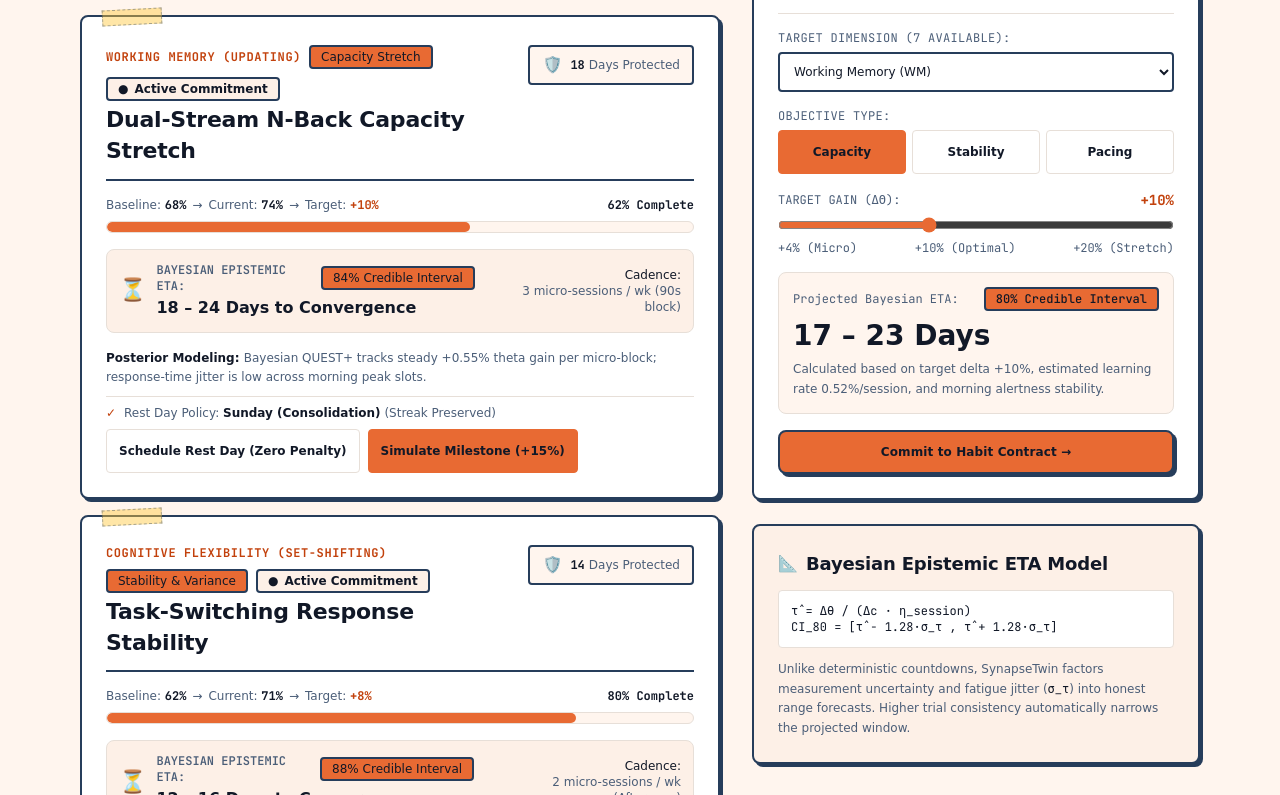
Wave 1 & Wave 2 Pages & Design System Unit Suite › renders Page 11 Goals & Habit Contracts (/goals) with Zero-Guilt Streak Protection, Bayesian ETA simulator, and contract cards
The width and height of the screenshot is (1280, 795).
(page scrolled)
Check: the heading "Dual-Stream N-Back Capacity Stretch" is shown, box x1=106 y1=105 x2=516 y2=167
Step 1. Click the button "Schedule Rest Day (Zero Penalty)" → [233, 451], box x1=106 y1=429 x2=360 y2=473
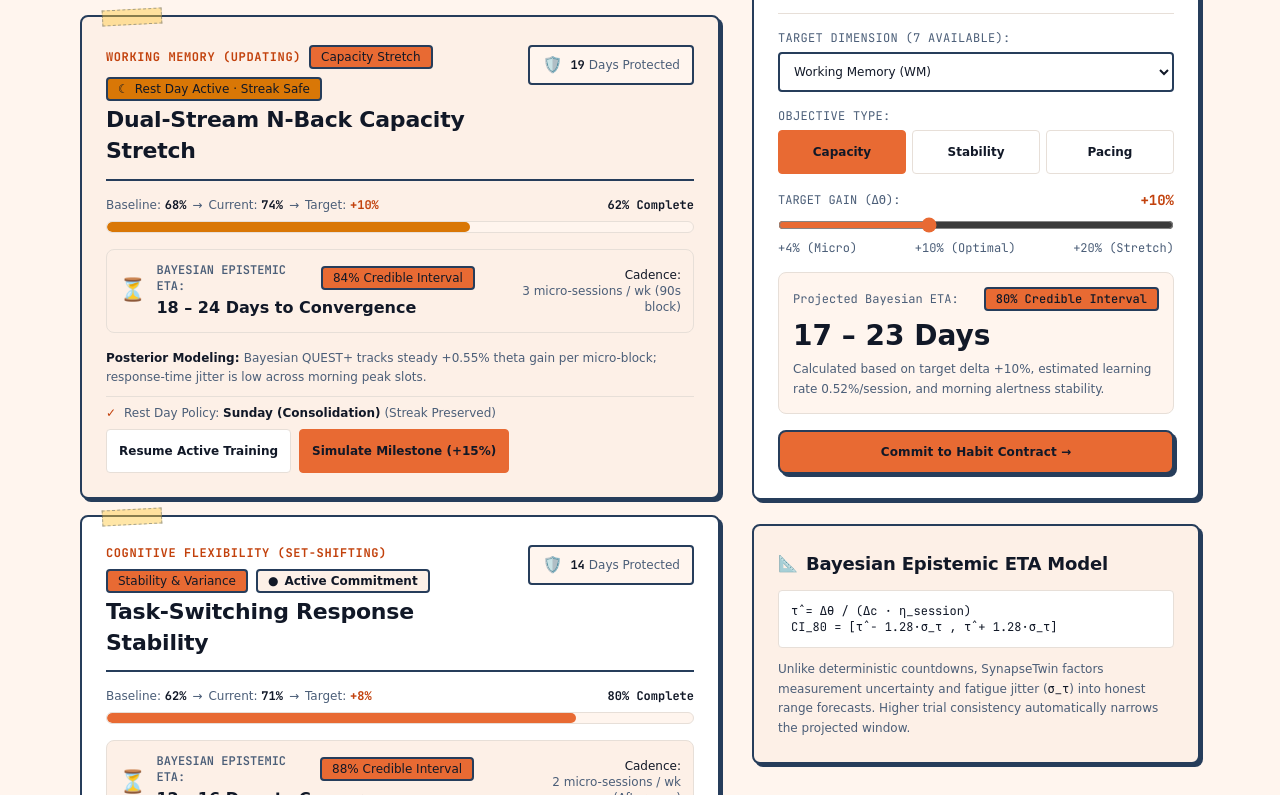
Step 2. Click the button "Simulate Milestone (+15%)" → [404, 451], box x1=299 y1=429 x2=509 y2=473
(page scrolled)
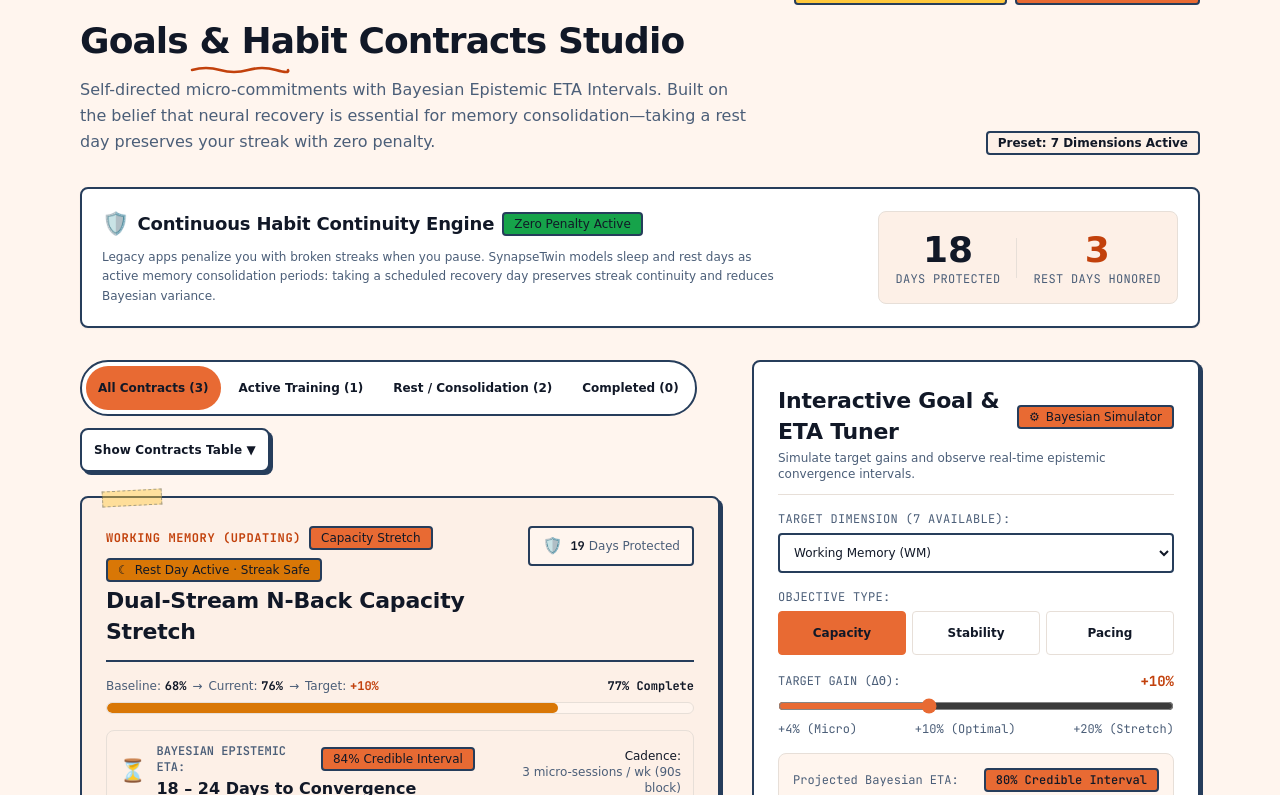
Expand Accessible Contracts Table Region
Step 3. Click the button "Show Contracts Table ▼" → [175, 450], box x1=80 y1=428 x2=270 y2=472
(page scrolled)
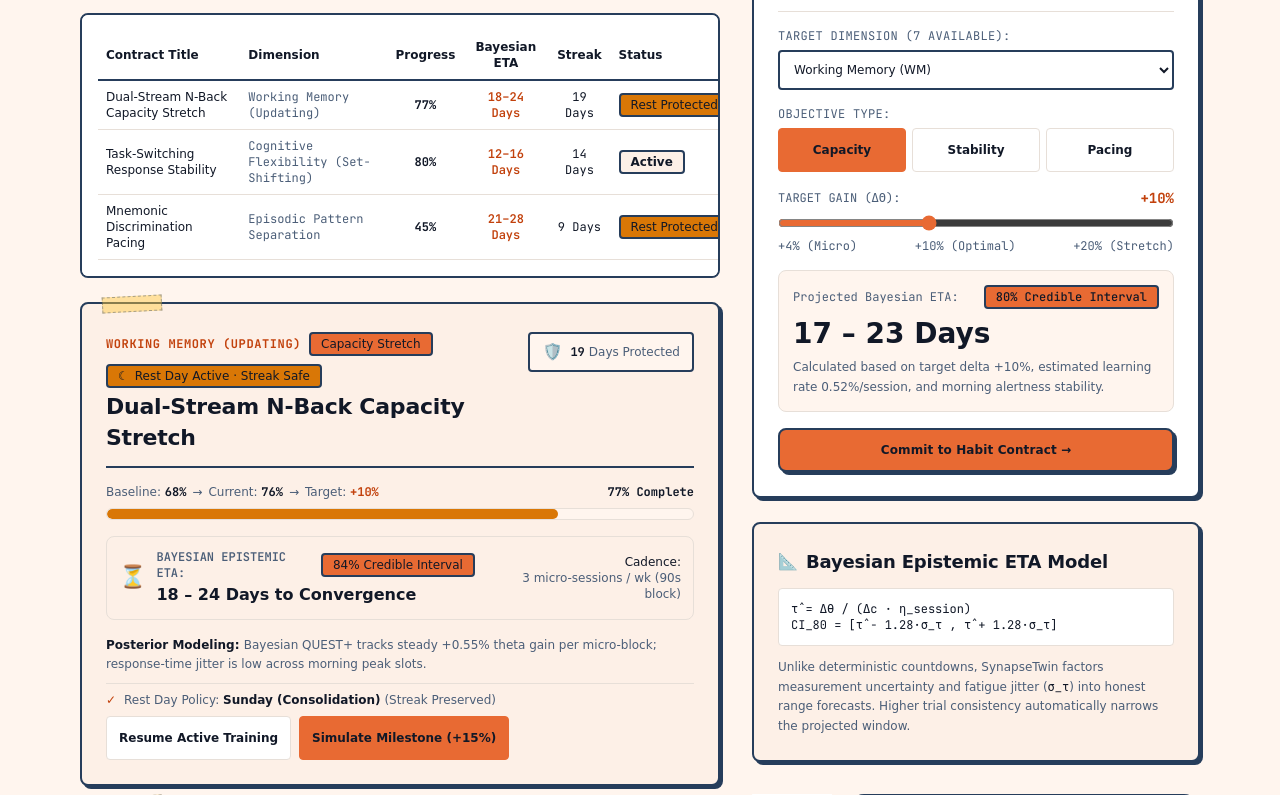
Check: the table named "Habit Contracts and Bayesian ETAs Table" is shown, box x1=98 y1=31 x2=720 y2=260
Test Goal Creator form submit
Step 4. Click the button "Commit to Habit Contract →" → [976, 450], box x1=778 y1=428 x2=1174 y2=472
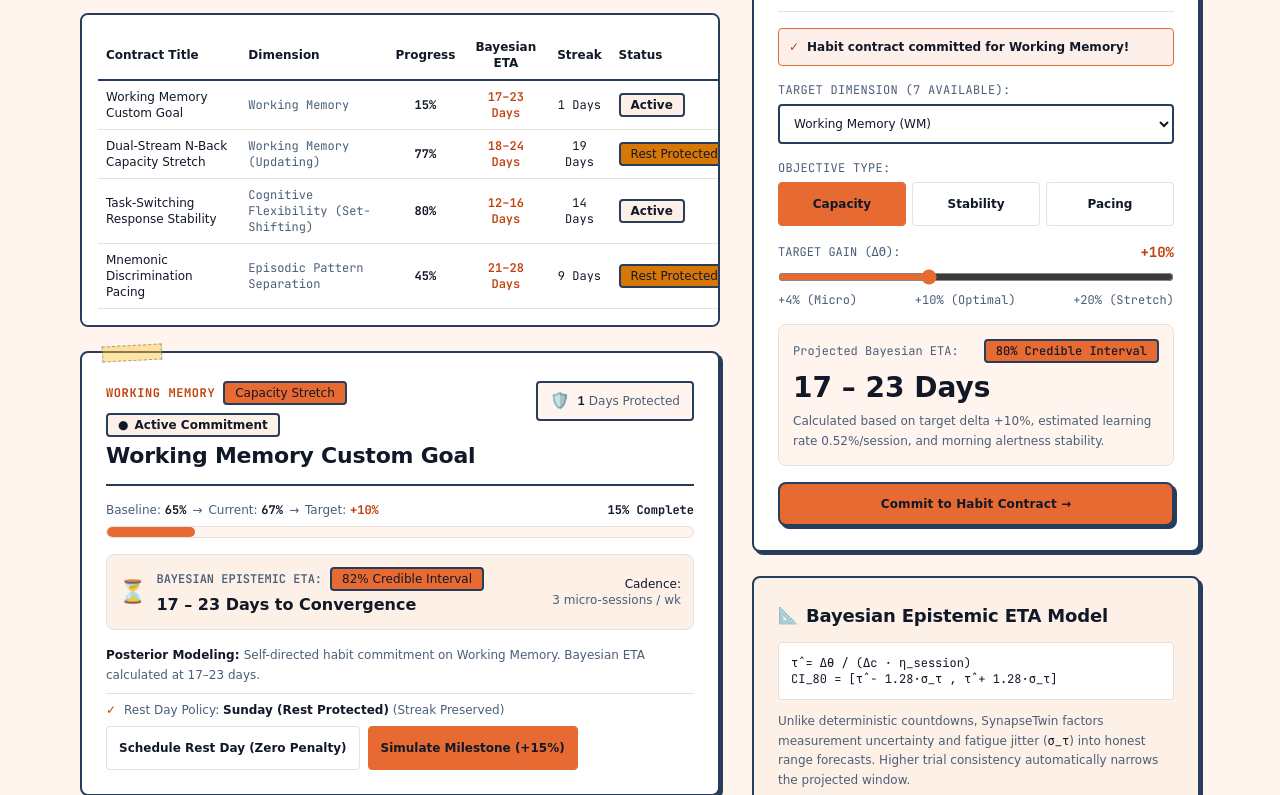
Check: the text "Habit contract committed for Working Memory!" is shown, box x1=807 y1=39 x2=1129 y2=55
